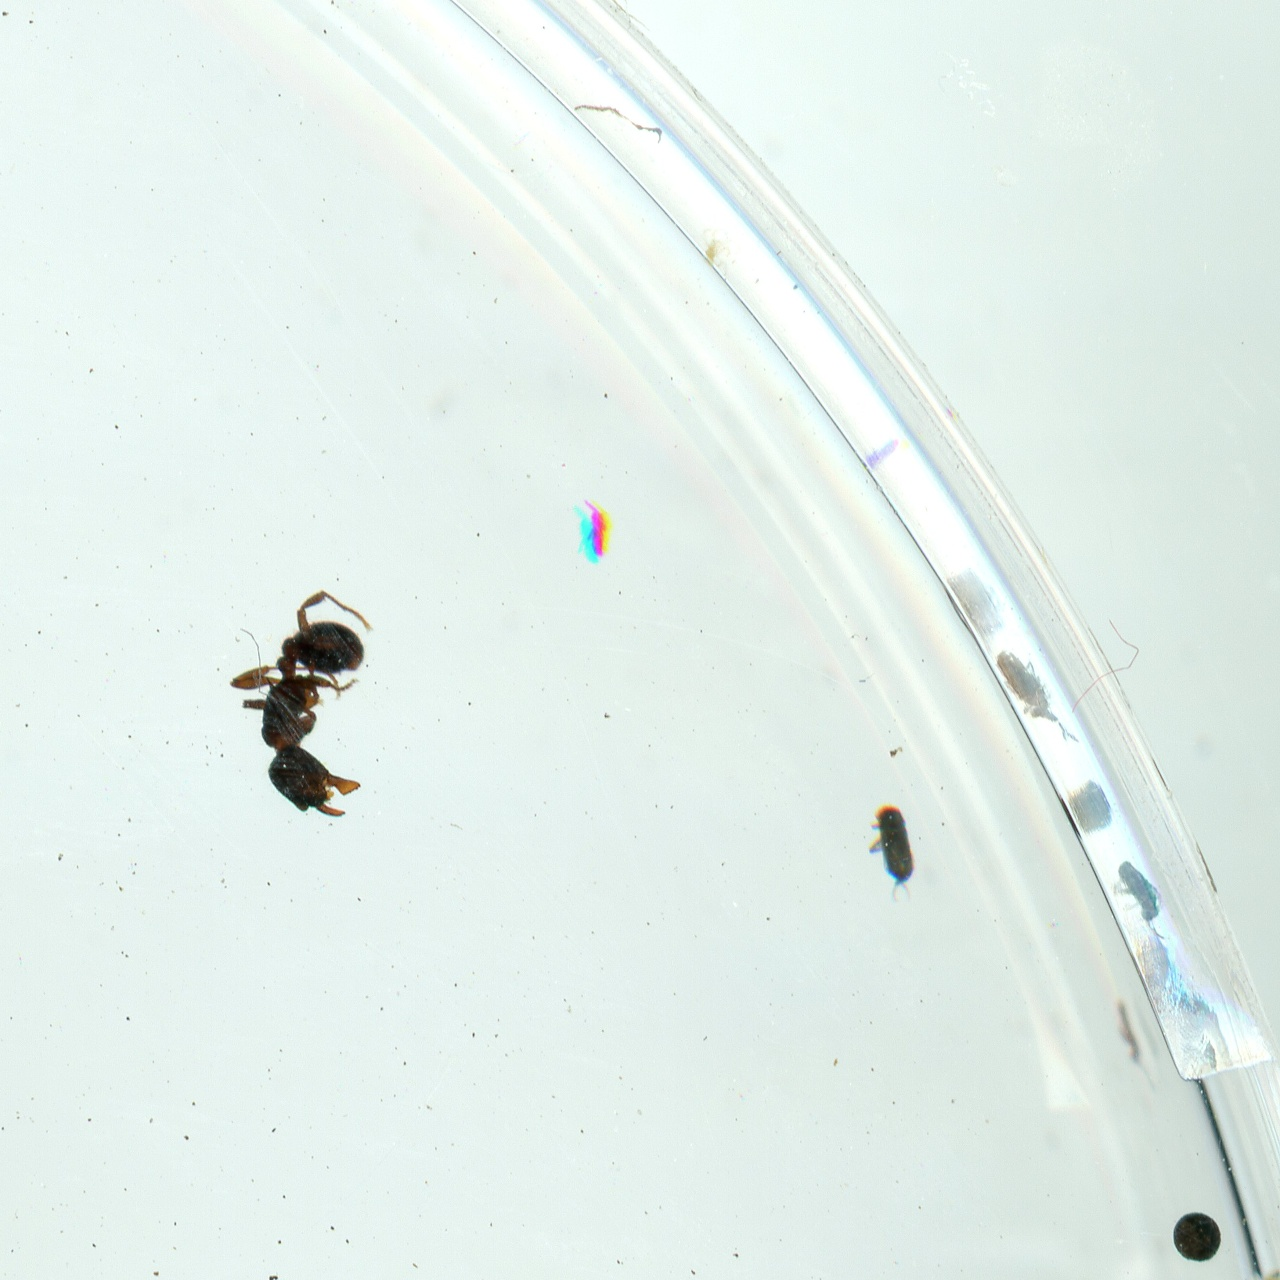arthropod: (227, 586, 377, 824), (980, 631, 1090, 769), (1098, 845, 1182, 956), (856, 798, 928, 913), (567, 495, 615, 565)
